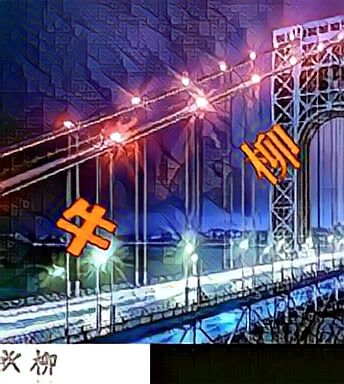C1F8: (239, 121, 304, 185)
C5A3: (54, 195, 119, 259)
